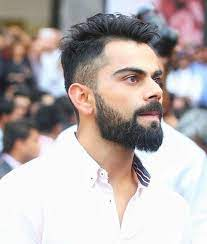b.y: (134, 110, 164, 151)
